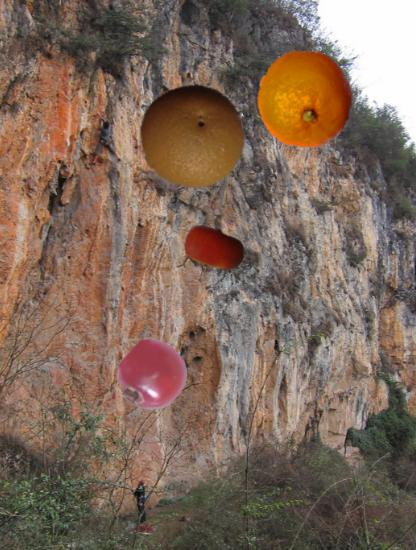Lemon: (257, 51, 355, 149)
Nectarine: (183, 218, 246, 281)
Orange: (140, 82, 248, 190)
Redcurrant: (117, 341, 188, 412)
